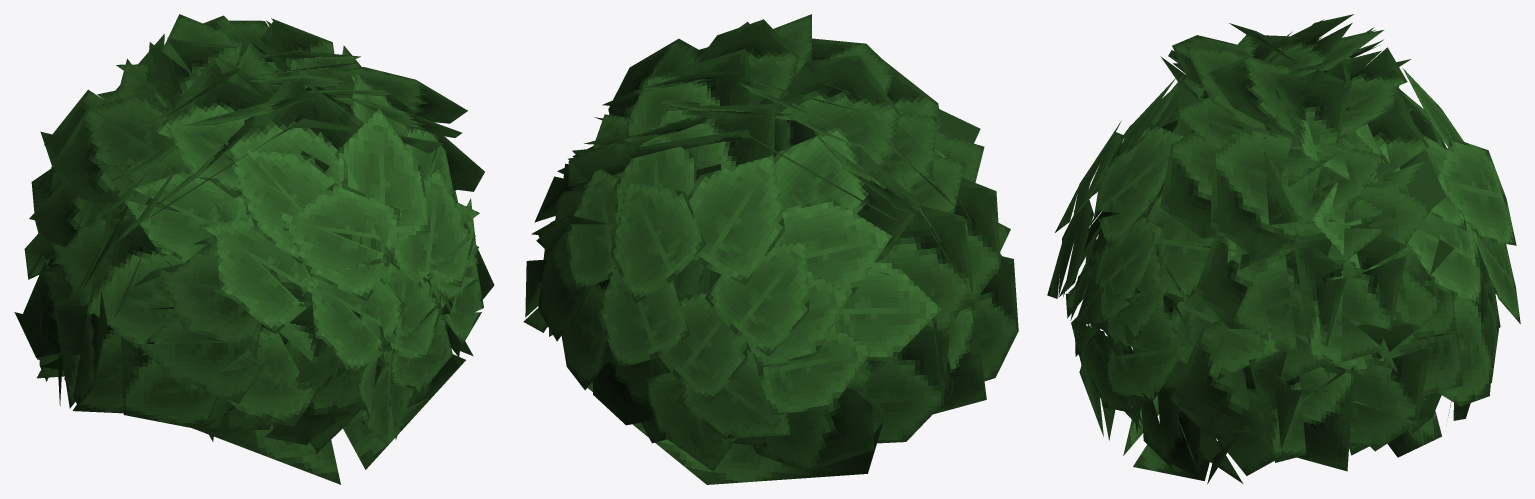
The model's file is bush-hibiscus-summer.glb.
3 renders of one model, left to right at view 1: azimuth 30°, elevation 25°; view 2: azimuth 150°, elevation 25°; view 3: azimuth 270°, elevation 25°, orthographic. The views are drawn at different scales.
Parts seen in each view (by area): view 1: bush-hibiscus-summer; view 2: bush-hibiscus-summer; view 3: bush-hibiscus-summer.
Part boxes in pixels (<box>): bush-hibiscus-summer: <box>14,14,494,484</box>; bush-hibiscus-summer: <box>523,14,1018,484</box>; bush-hibiscus-summer: <box>1047,14,1520,484</box>.
Bounding box in the file's own units: 1.08 × 0.9851 × 1.04.
1 material, 1 textured.
